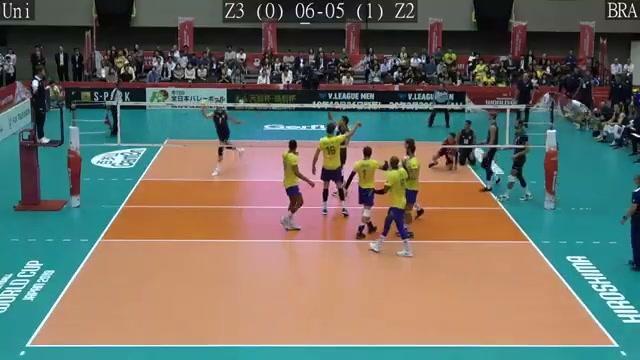ball: (199, 96, 209, 116)
